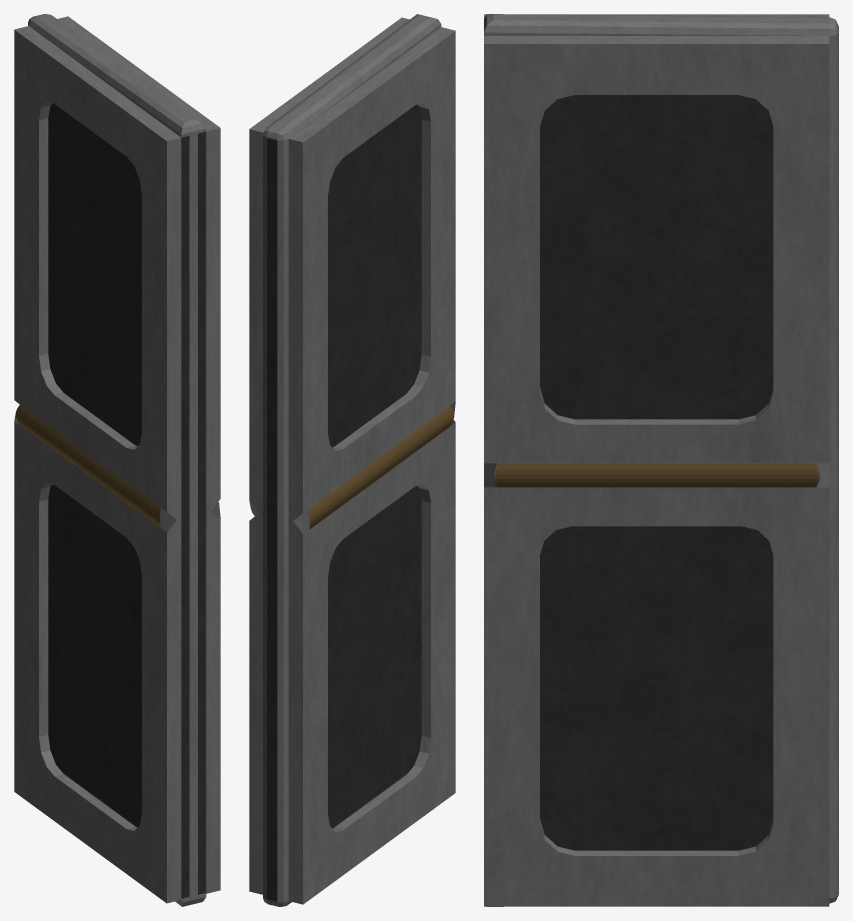
The model's file is elev_door1_UV.fbx.
3 renders of one model, left to right at view 1: azimuth 30°, elevation 25°; view 2: azimuth 150°, elevation 25°; view 3: azimuth 270°, elevation 25°, orthographic. The views are drawn at different scales.
Parts seen in each view (by area): view 1: door_bake; view 2: door_bake; view 3: door_bake.
Part boxes in pixels (x1,y1,x2,y2): door_bake: [14, 14, 220, 906]; door_bake: [249, 14, 455, 906]; door_bake: [484, 14, 838, 906].
Bounding box in the file's own units: 21.98 × 277 × 101.
1 material, 1 textured.
